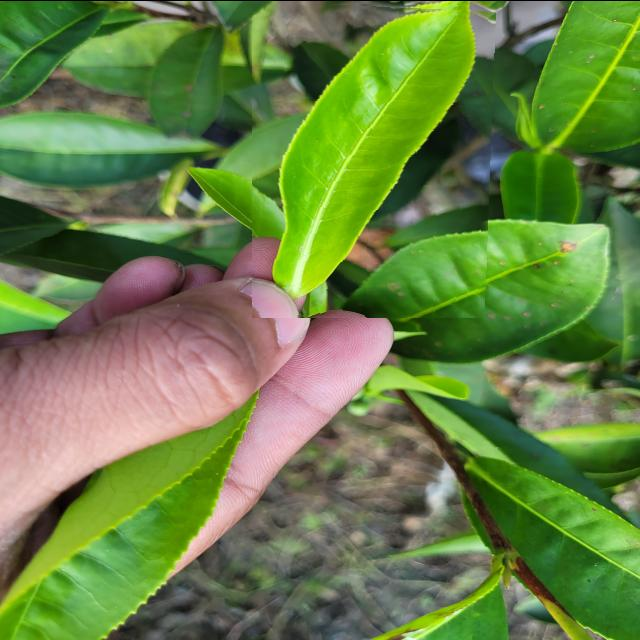Category B(2-4 days): (252, 0, 496, 317)
